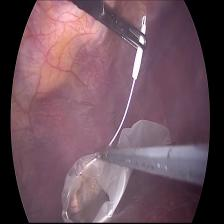Grasper: (105, 2, 148, 61), (92, 146, 114, 164)
Specimen Bag: (59, 104, 181, 224)
